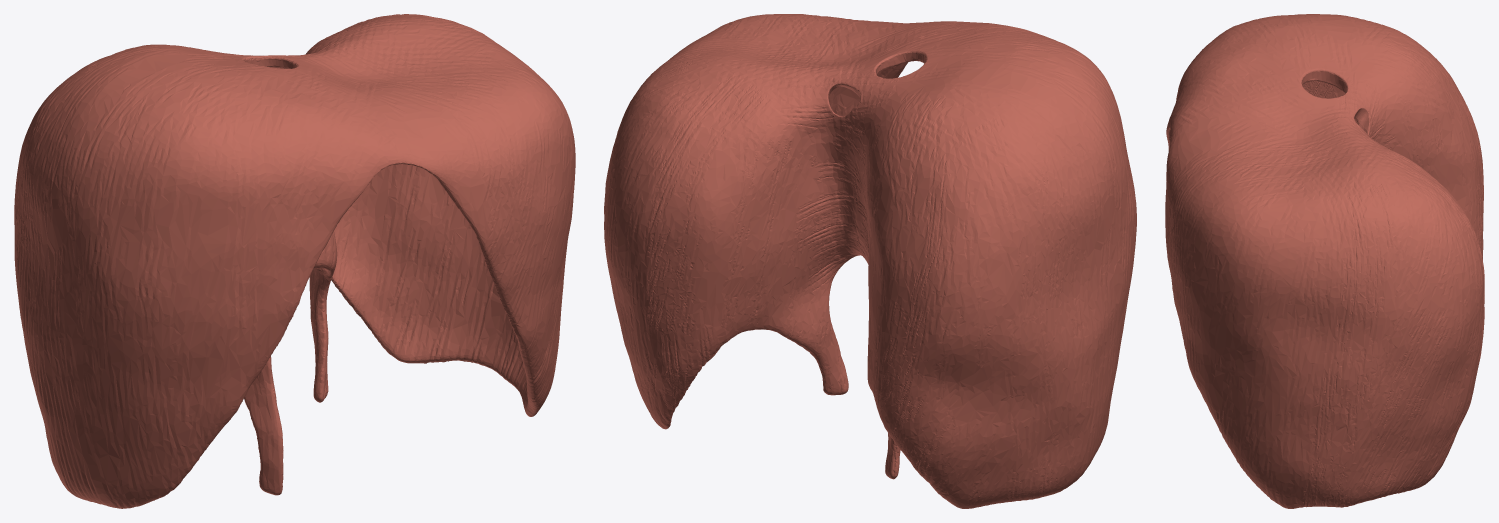
File: diaphragm.glb
3 renders of one model, left to right at view 1: azimuth 30°, elevation 25°; view 2: azimuth 150°, elevation 25°; view 3: azimuth 270°, elevation 25°, orthographic. The views are drawn at different scales.
Visible parts, largest first — view 1: diaphragm; view 2: diaphragm; view 3: diaphragm.
Boxes of the visible parts, x1,y1,x2,y2 form: diaphragm: [14, 14, 575, 508]; diaphragm: [604, 14, 1136, 508]; diaphragm: [1165, 14, 1484, 508].
Size of the model in its own units: 243 by 216 by 164.
